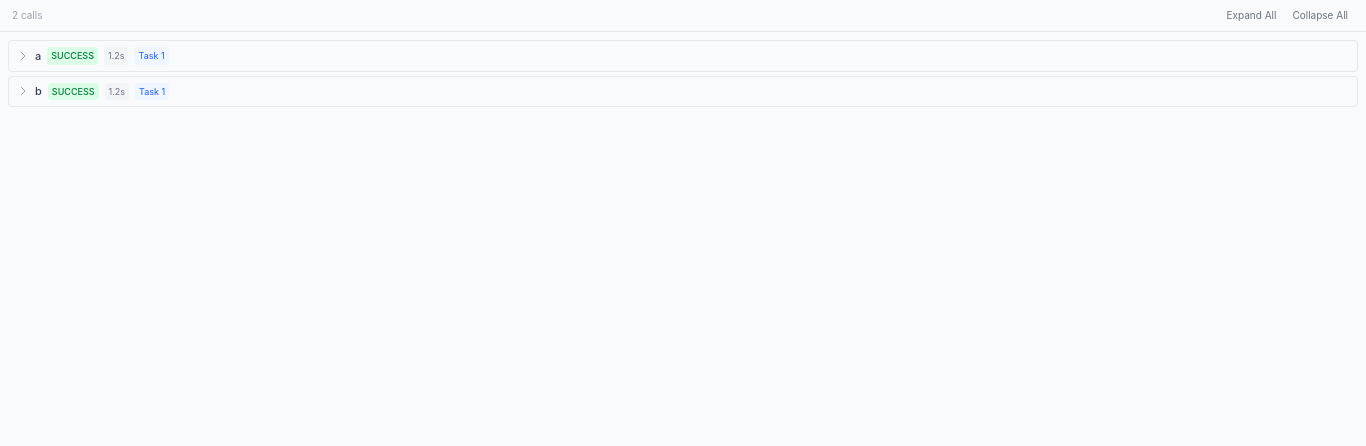
Test: ToolCallDetailPanel › expand/collapse › Expand All button expands all cards
Click the button with test id "tool-detail-expand-all" at (1251, 16), box [1220, 6, 1282, 25]
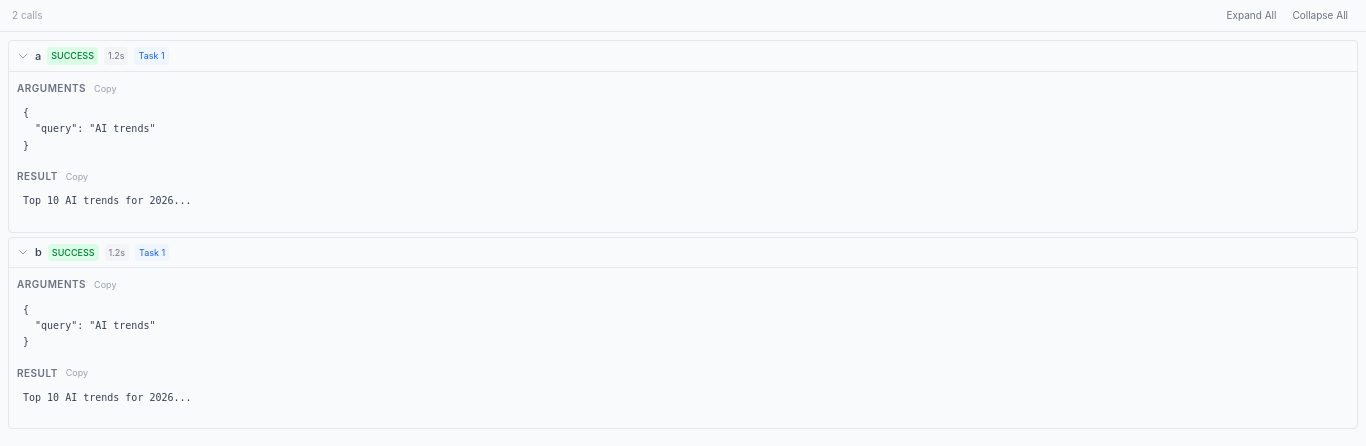
Expected: the number of elements with test id "tool-call-card-body" is 2, [9, 70, 1357, 232]; [9, 267, 1357, 428]
